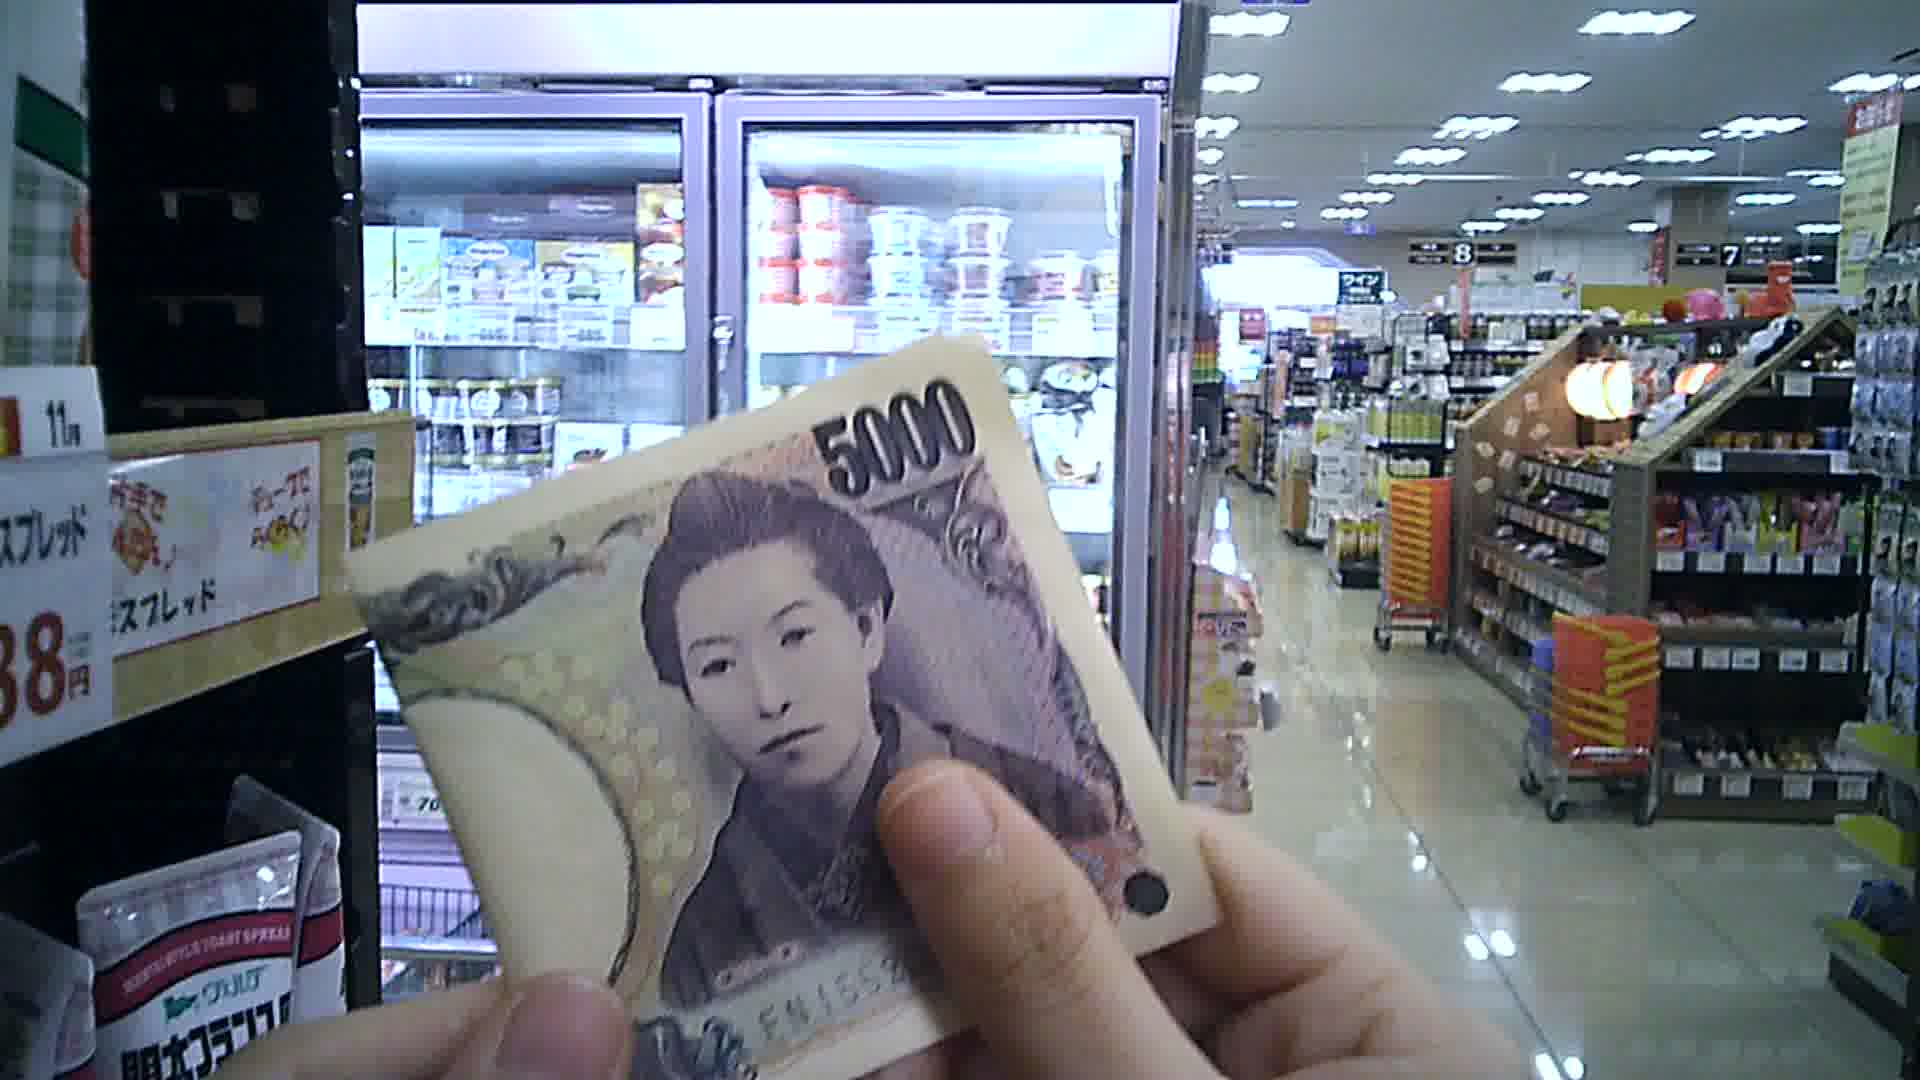5,000 Yen: (355, 332, 1218, 1058)
